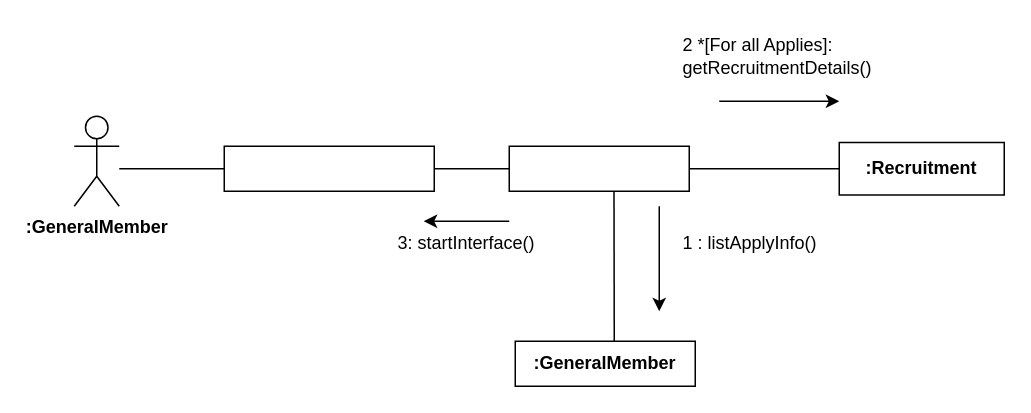
Some shapes in this 1031 by 413 pixel diagram are drawn without their labels. The shapes that lost their labels are listed below. From the top down, each one's centre as x and y in pixels, then its label:
At pixel 328 168: ":ShowApplyInfoUI".
At pixel 598 168: ":ShowApplyInfo".
